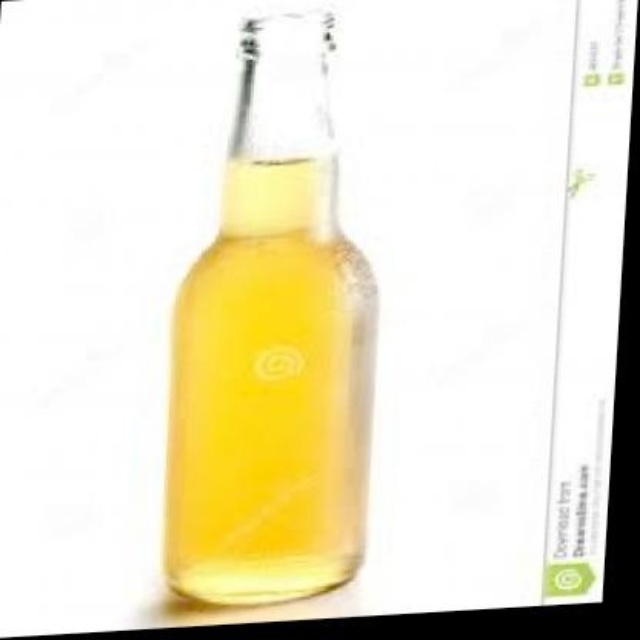trash: (165, 12, 375, 603)
